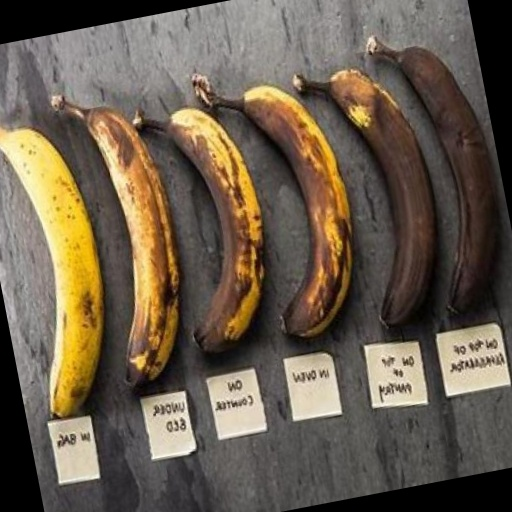fruit: (0, 127, 386, 512), (0, 121, 355, 512), (114, 93, 411, 410), (349, 98, 512, 450), (243, 40, 443, 316), (463, 71, 512, 366)
